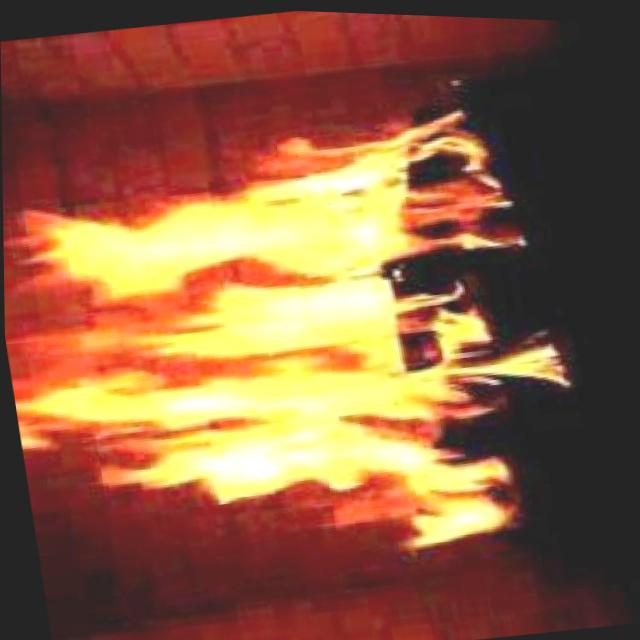Fire: (1, 72, 604, 615)
